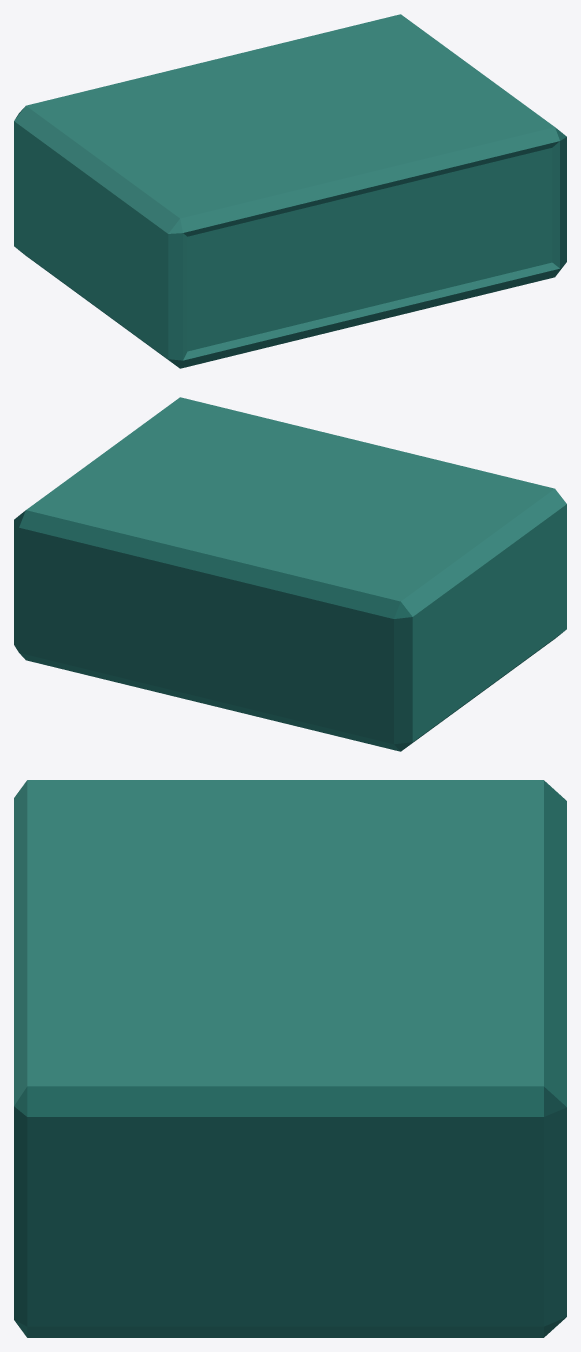
The model's file is Door_Lintel.gltf.
3 views of the same model, one above another, from view 1: azimuth 30°, elevation 25°; view 2: azimuth 150°, elevation 25°; view 3: azimuth 270°, elevation 25° (orthographic). The views are drawn at different scales.
Parts seen in each view (by area): view 1: Door_Lintel_baked; view 2: Door_Lintel_baked; view 3: Door_Lintel_baked.
Boxes of the visible parts, left/top/right/bottom form: Door_Lintel_baked: left=14, top=14, right=566, bottom=368; Door_Lintel_baked: left=14, top=397, right=566, bottom=751; Door_Lintel_baked: left=14, top=780, right=566, bottom=1337.
Size of the model in its own units: 1 by 0.36 by 0.7172.
